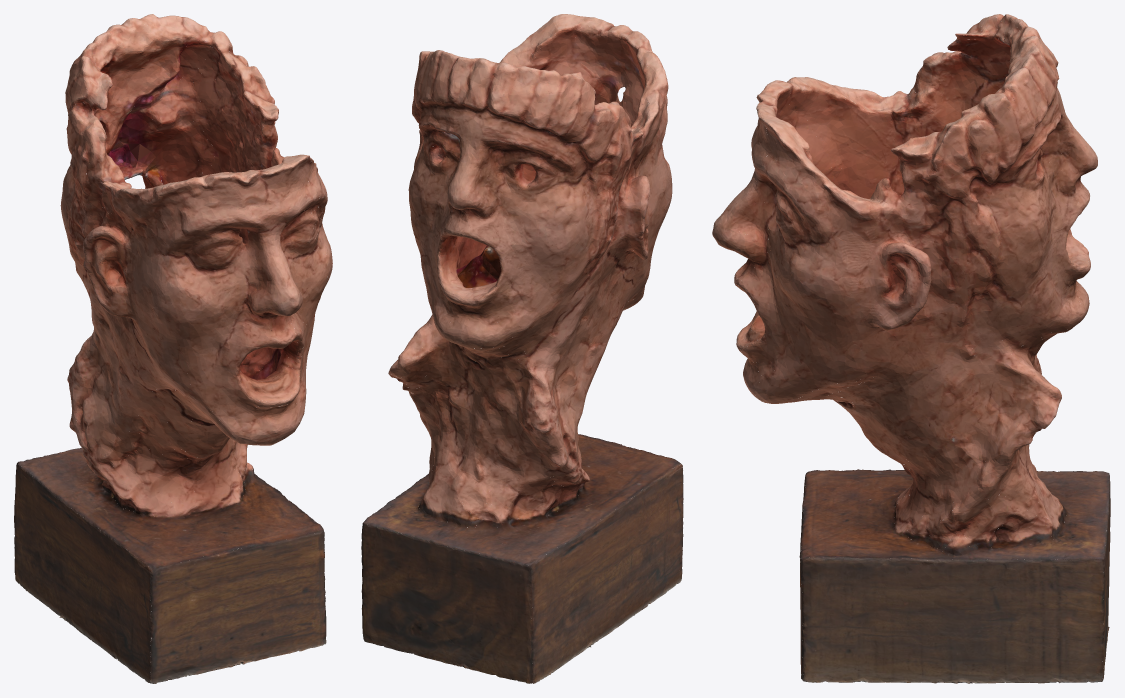
File: twins.glb
3 renders of one model, left to right at view 1: azimuth 30°, elevation 25°; view 2: azimuth 150°, elevation 25°; view 3: azimuth 270°, elevation 25°, orthographic. The views are drawn at different scales.
Visible parts, largest first — view 1: Mesh_0_Part_0; view 2: Mesh_0_Part_0; view 3: Mesh_0_Part_0.
Part boxes in pixels (bbox=[...]): Mesh_0_Part_0: bbox=[14, 14, 332, 683]; Mesh_0_Part_0: bbox=[361, 14, 683, 683]; Mesh_0_Part_0: bbox=[712, 14, 1110, 683].
Size of the model in its own units: 4.5 by 11.38 by 6.84.
Materials: 1 (1 with a texture image).
